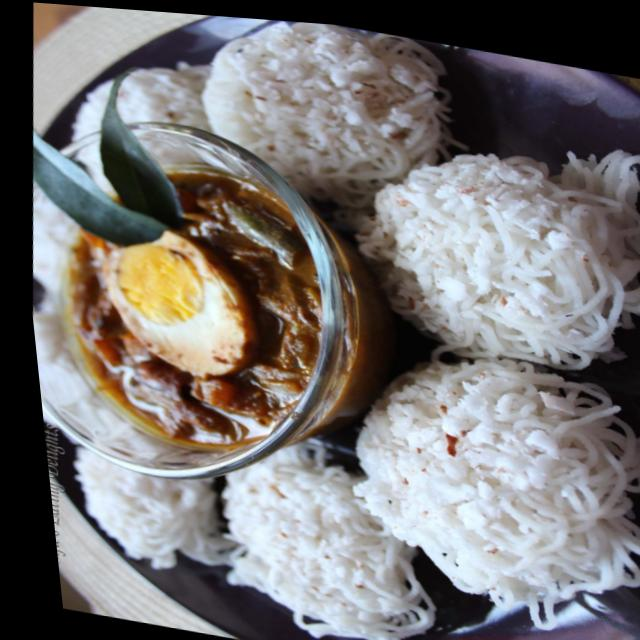EGG: (54, 168, 309, 437)
IDIYAPPAM: (73, 36, 640, 640)
